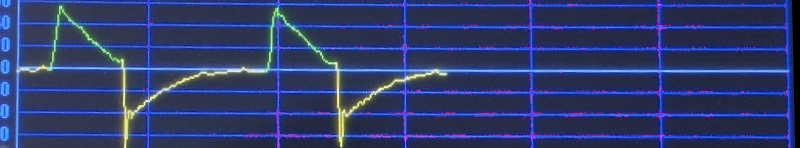normal_flow: (12, 1, 451, 148)
